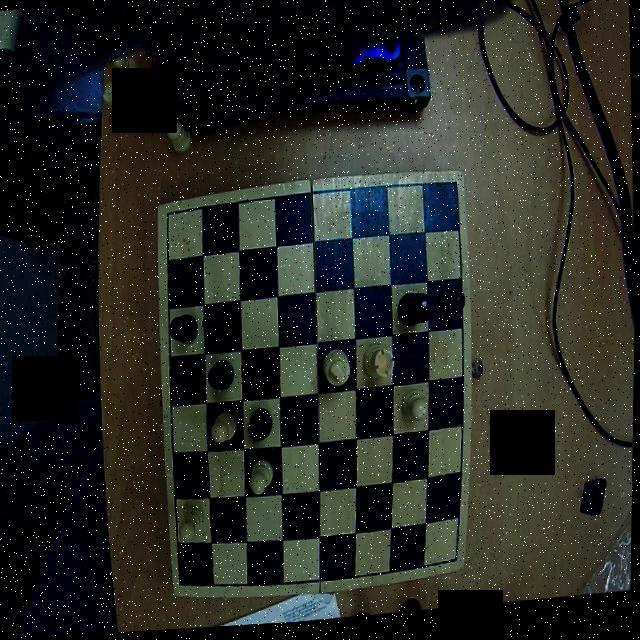chess-table-corners: (442, 179, 464, 205), (161, 204, 182, 228), (175, 570, 191, 599), (445, 556, 463, 578)
